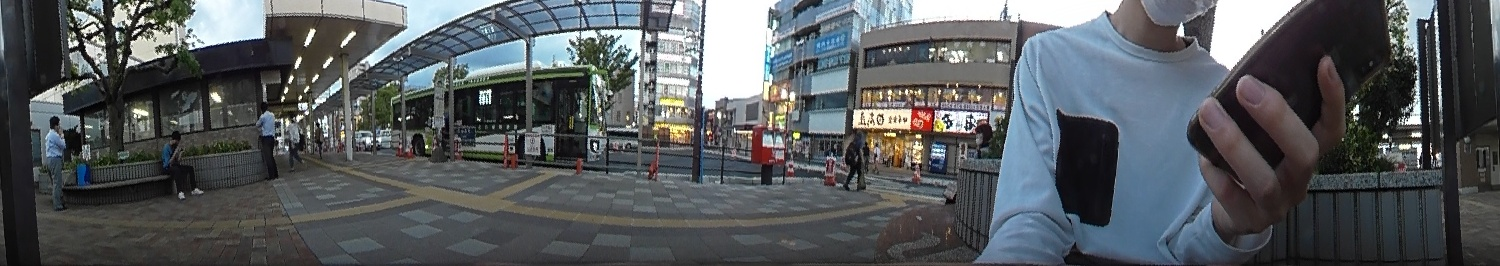difficult_person: (840, 124, 868, 193), (283, 111, 304, 166), (870, 141, 882, 174), (313, 118, 324, 153)
person: (37, 111, 73, 210), (158, 129, 202, 199), (252, 100, 282, 179)
